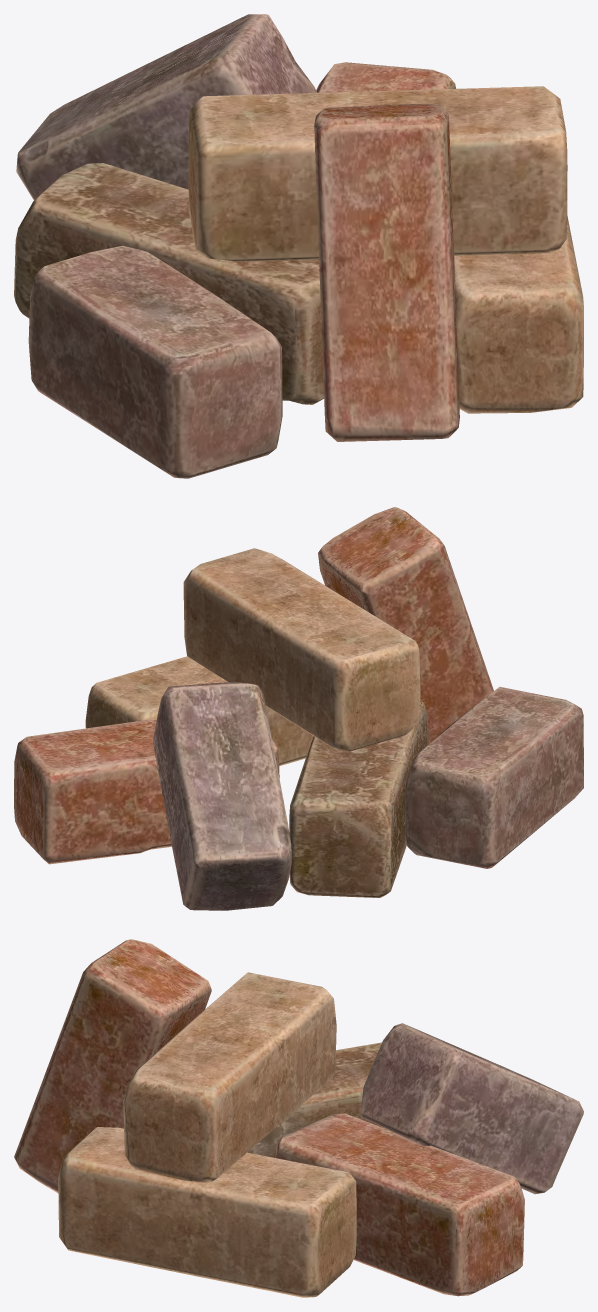
3 renders of one model, top to bottom at view 1: azimuth 30°, elevation 25°; view 2: azimuth 150°, elevation 25°; view 3: azimuth 270°, elevation 25°, orthographic. The views are drawn at different scales.
Visible parts, largest first — view 1: SM_Human_Ruins_Brick_Dmg_09_LOD0; view 2: SM_Human_Ruins_Brick_Dmg_09_LOD0; view 3: SM_Human_Ruins_Brick_Dmg_09_LOD0.
Boxes of the visible parts, x1,y1,x2,y2 form: SM_Human_Ruins_Brick_Dmg_09_LOD0: (14,14,583,478); SM_Human_Ruins_Brick_Dmg_09_LOD0: (14,507,583,910); SM_Human_Ruins_Brick_Dmg_09_LOD0: (14,939,583,1297).
Bounding box in the file's own units: 0.5744 × 0.3285 × 0.6943.
1 material, 1 textured.
